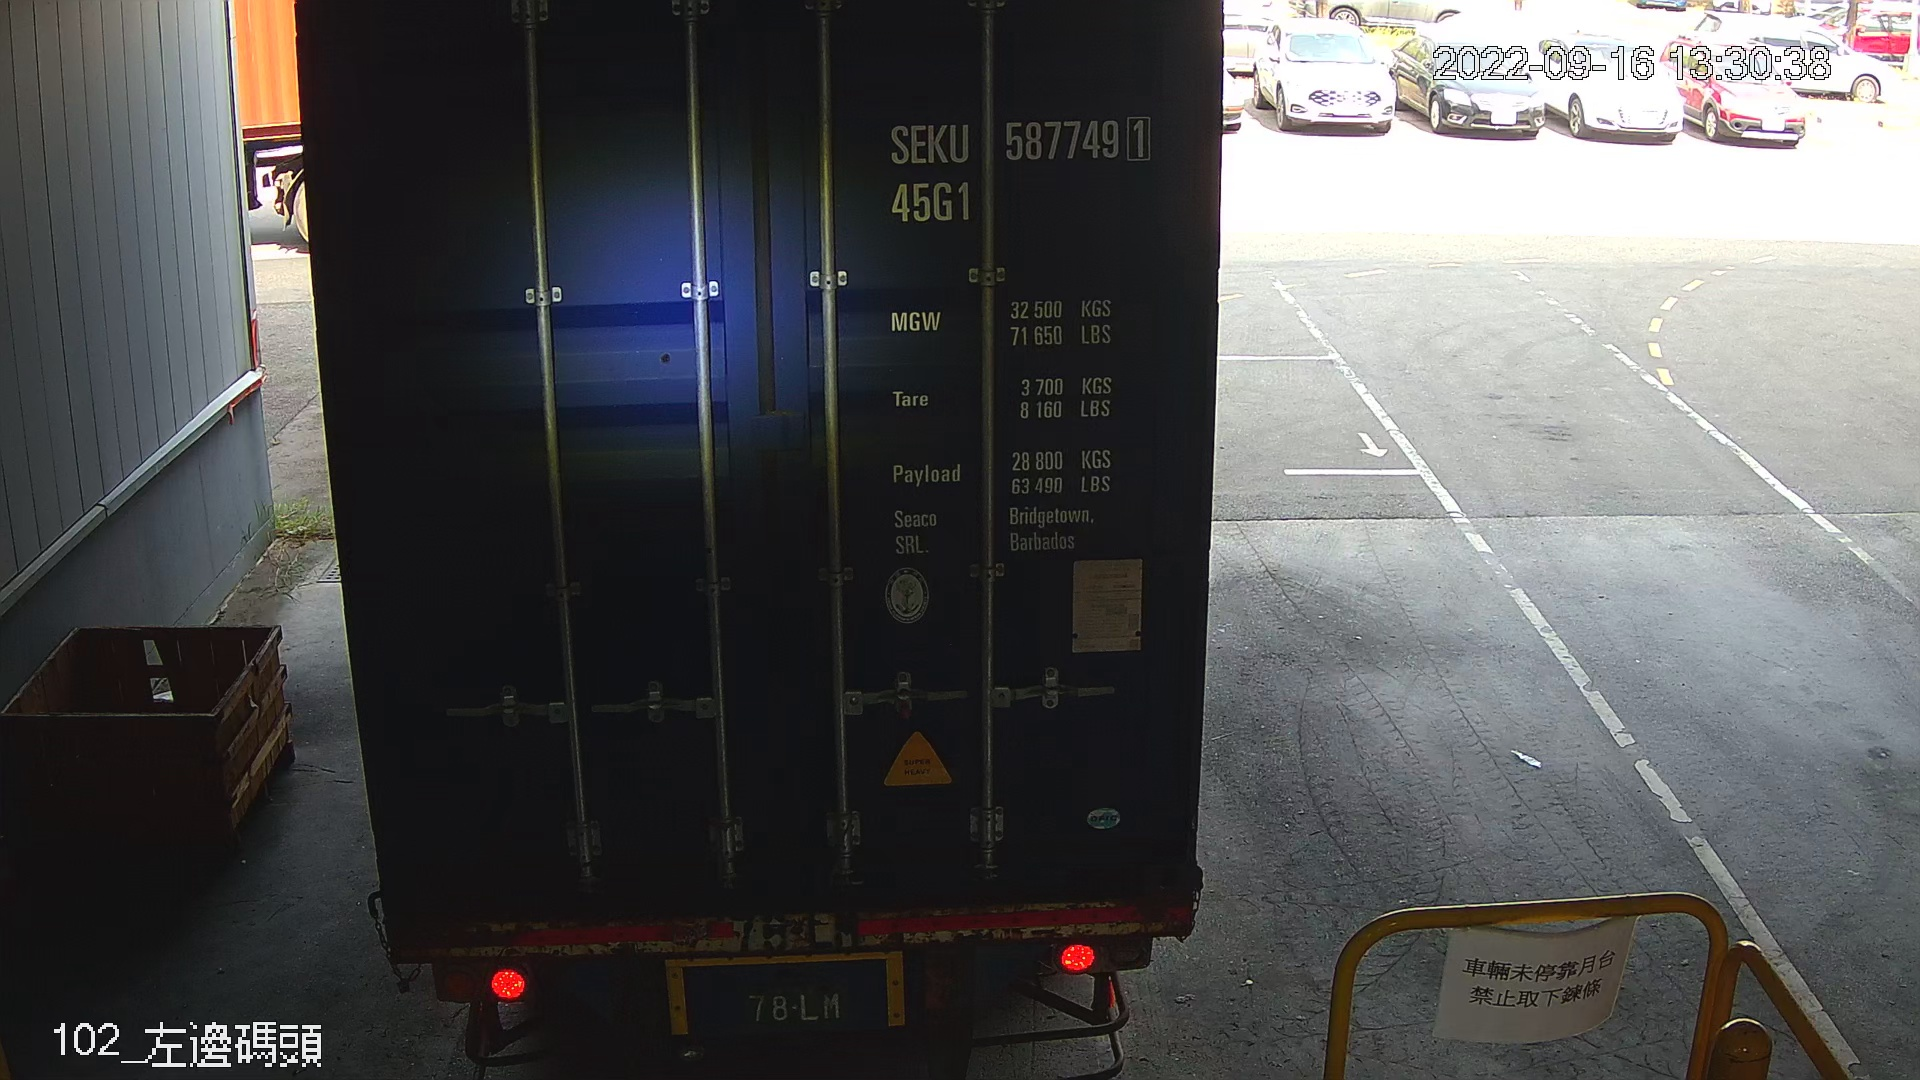container: (872, 104, 1162, 235)
